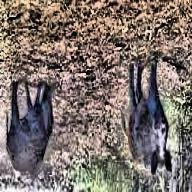boar: (117, 49, 175, 174), (0, 75, 61, 178)
